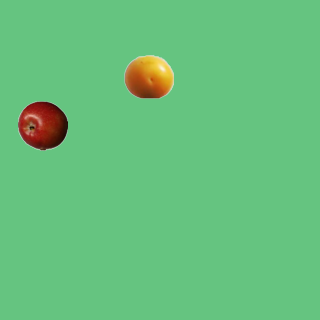Apple Braeburn: (17, 100, 67, 150)
Cherry Wax Yellow: (123, 51, 173, 101)
